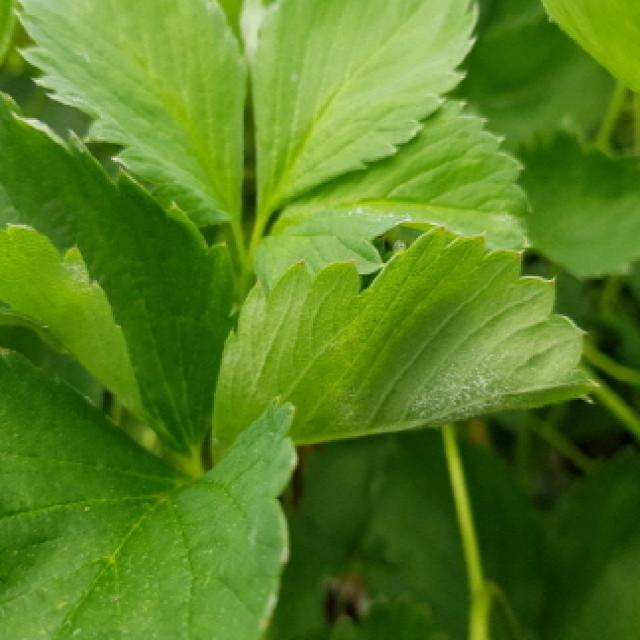Powdery Mildew Leaf: (209, 223, 601, 467), (270, 99, 534, 249)
